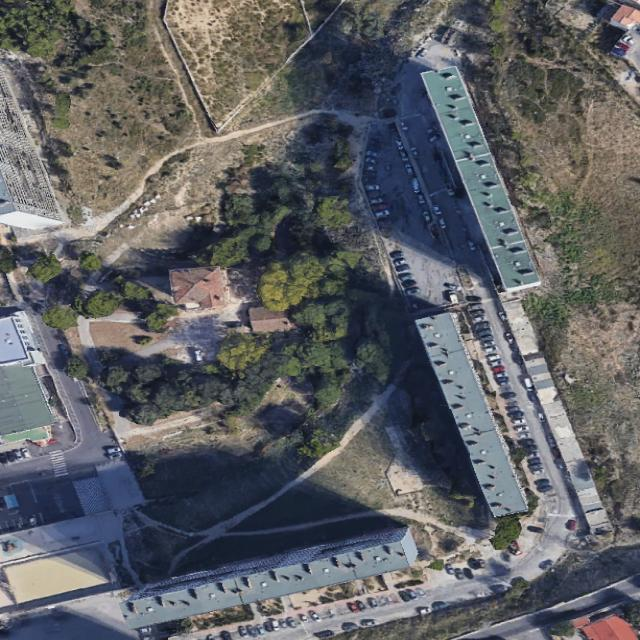immeuble: (117, 524, 418, 630), (419, 60, 541, 298), (414, 305, 530, 524), (0, 71, 66, 246), (0, 356, 56, 441), (0, 327, 45, 364)
